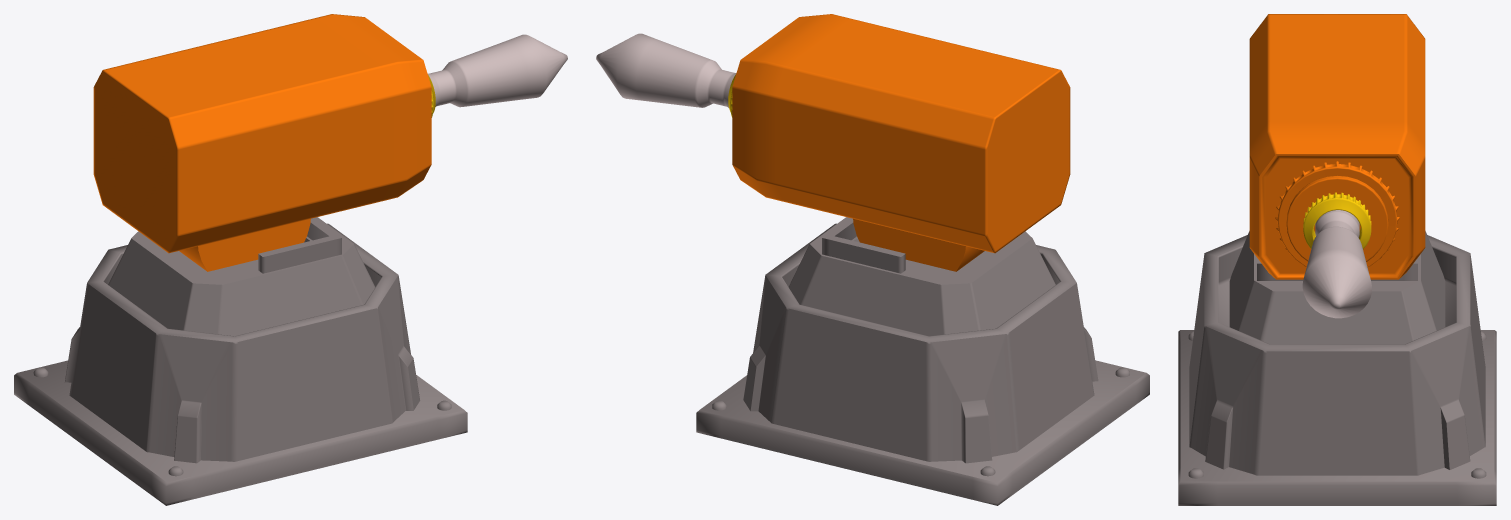
Rendered from 未命名3.fbx.
3 renders of one model, left to right at view 1: azimuth 30°, elevation 25°; view 2: azimuth 150°, elevation 25°; view 3: azimuth 270°, elevation 25°, orthographic. The views are drawn at different scales.
Visible parts, largest first — view 1: Stand, Turret, Missile; view 2: Stand, Turret, Missile; view 3: Stand, Turret, Missile.
Boxes of the visible parts, left/top/right/bottom form: Stand: left=14, top=217, right=467, bottom=505; Turret: left=93, top=14, right=435, bottom=271; Missile: left=428, top=34, right=567, bottom=107; Stand: left=696, top=217, right=1149, bottom=505; Turret: left=728, top=14, right=1070, bottom=271; Missile: left=596, top=33, right=736, bottom=107; Stand: left=1178, top=231, right=1496, bottom=505; Turret: left=1249, top=14, right=1425, bottom=279; Missile: left=1302, top=210, right=1371, bottom=318.
Size of the model in its own units: 647 by 448 by 357.
